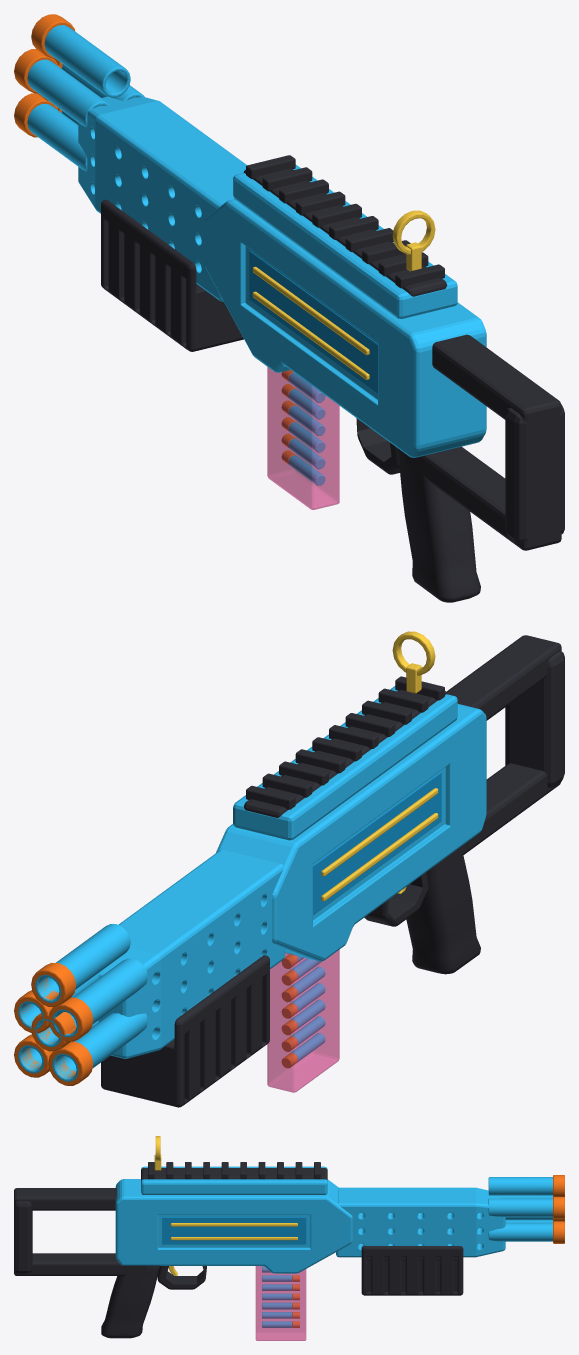
The picture shows the model from 3 angles, top to bottom: view 1: azimuth 30°, elevation 25°; view 2: azimuth 150°, elevation 25°; view 3: azimuth 270°, elevation 25°; orthographic projection. The views are drawn at different scales.
Visible parts, largest first — view 1: body, pump, mag, mod_double; view 2: body, pump, mag, mod_double; view 3: body, pump, mag, mod_double.
Boxes of the visible parts, <box> form: body: <box>14,65,564,602</box>; pump: <box>101,199,243,351</box>; mag: <box>267,367,339,509</box>; mod_double: <box>14,14,144,127</box>; body: <box>14,631,564,1085</box>; pump: <box>101,955,269,1107</box>; mag: <box>267,949,339,1092</box>; mod_double: <box>14,924,147,1041</box>; body: <box>14,1136,564,1338</box>; pump: <box>361,1246,463,1295</box>; mag: <box>255,1266,306,1340</box>; mod_double: <box>488,1175,564,1219</box>.
Size of the model in its own units: 0.062 by 0.261 by 0.65.
